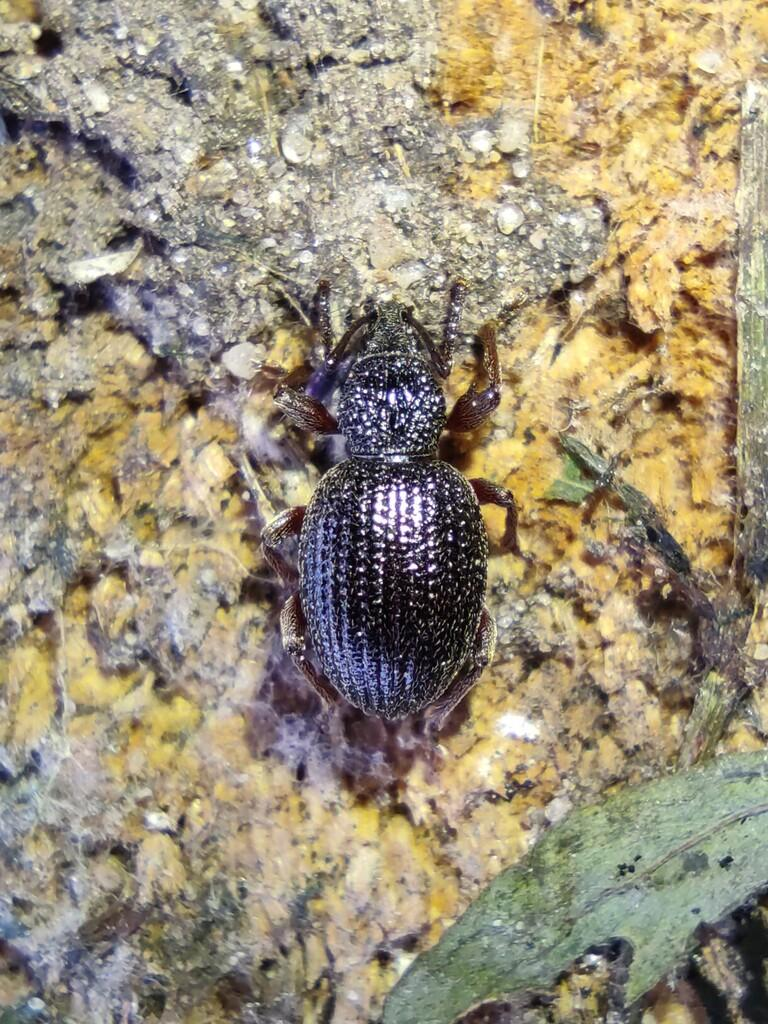weevils: (179, 220, 607, 781)
